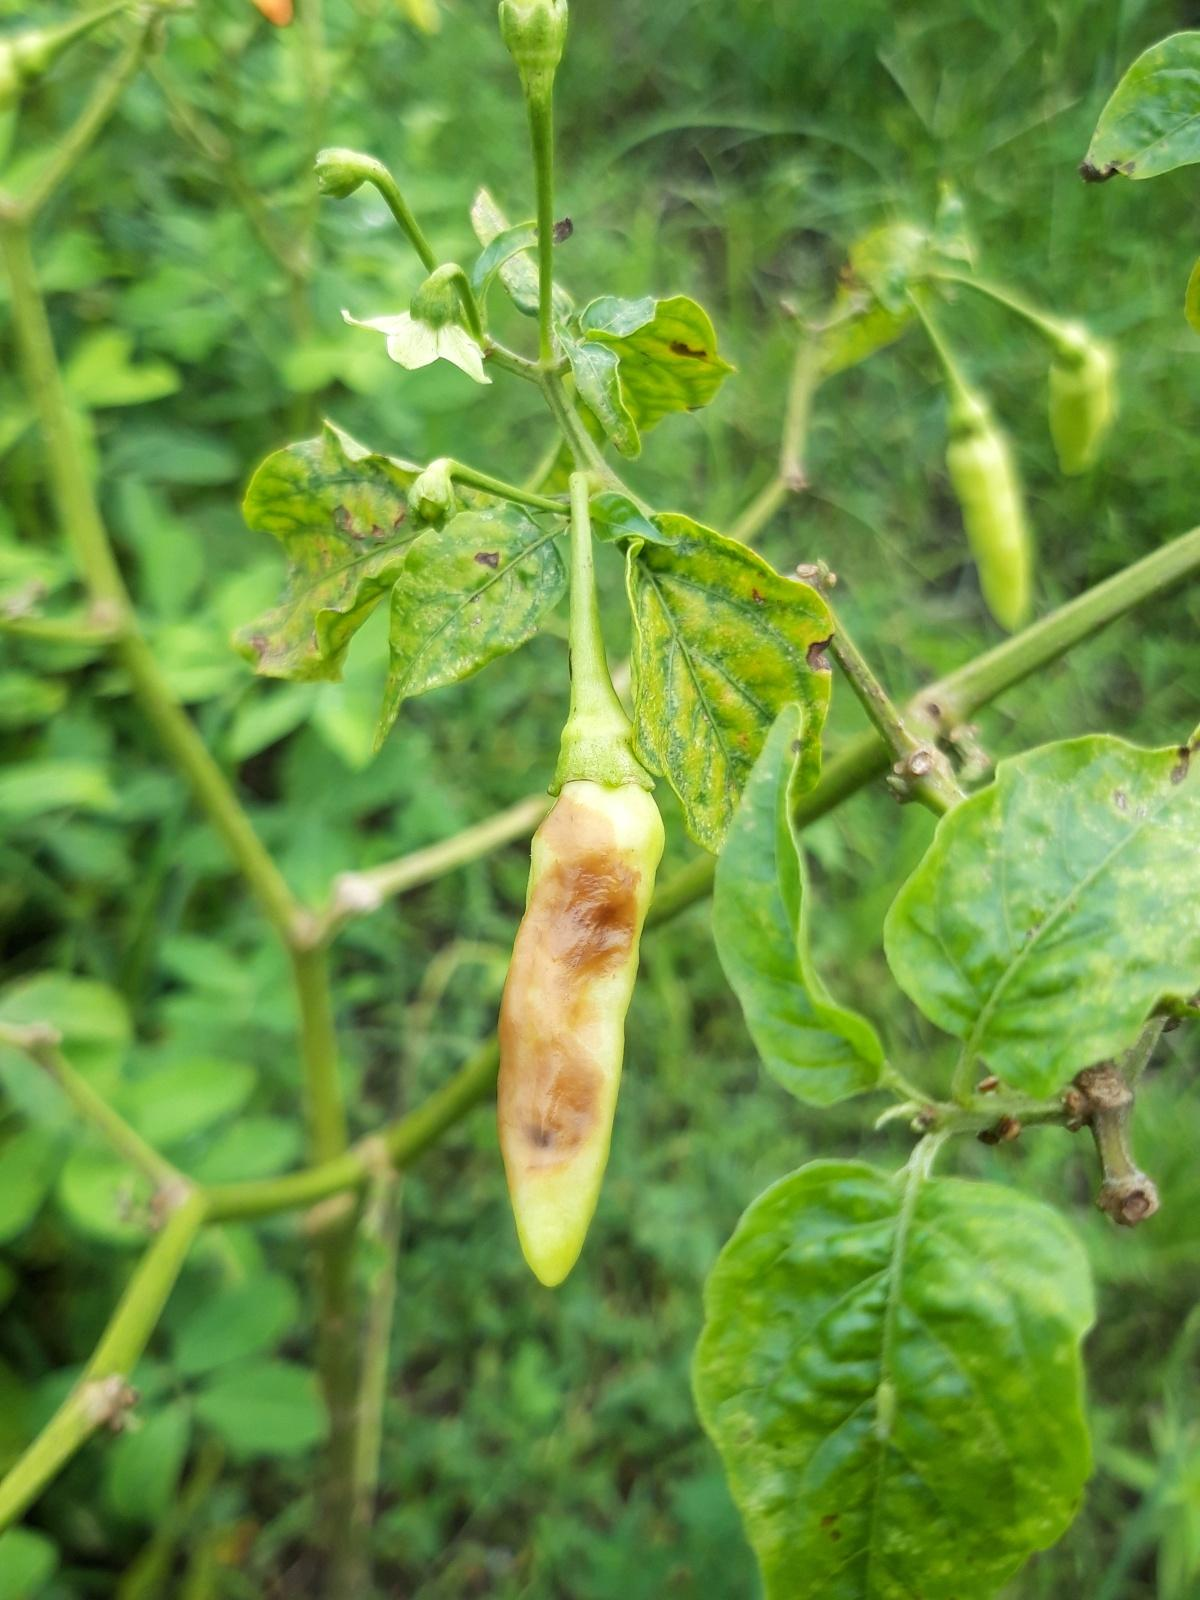cabai_normal: (943, 414, 1029, 634), (1046, 335, 1111, 479)
lalat_buah: (492, 740, 666, 1288)
